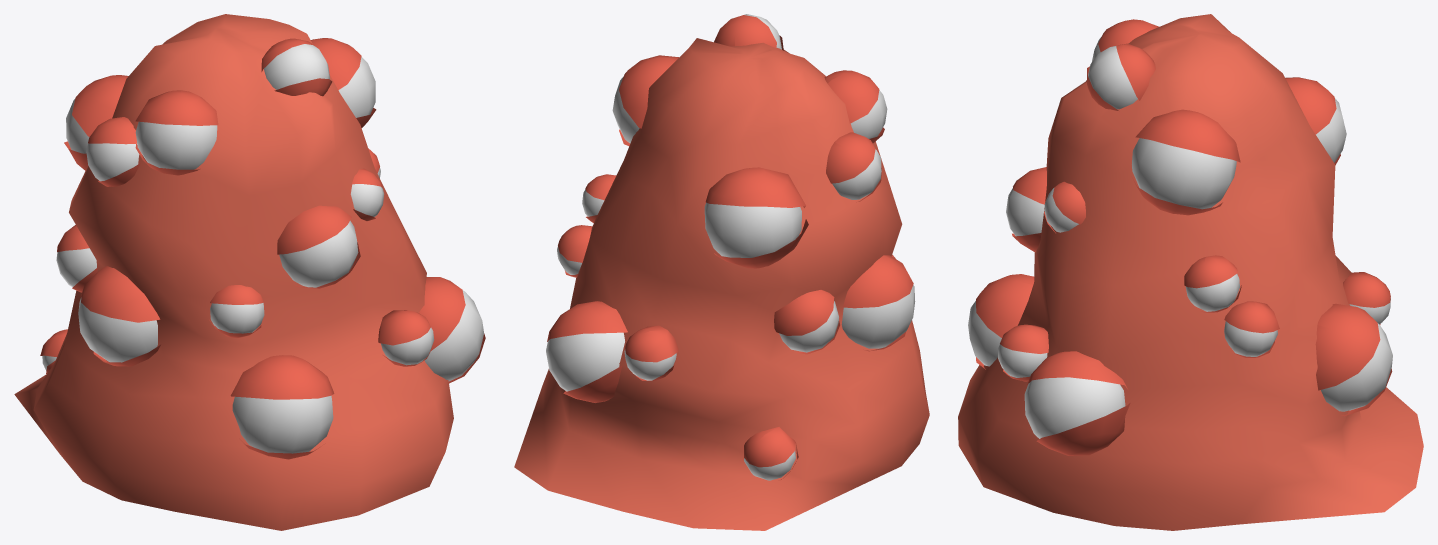
The model's file is Bishop-v2.fbx.
3 renders of one model, left to right at view 1: azimuth 30°, elevation 25°; view 2: azimuth 150°, elevation 25°; view 3: azimuth 270°, elevation 25°, orthographic. The views are drawn at different scales.
Parts seen in each view (by area): view 1: Cylinder, Sphere.002, Sphere.003, Sphere.006, Sphere.021, Sphere.020, Sphere.004, Sphere.012, Sphere.007, Sphere.005, Sphere.019, Sphere.013 (+14 smaller); view 2: Cylinder, Sphere.018, Sphere.019, Sphere.016, Sphere.017, Sphere.020, Sphere.021, Sphere.033, Sphere.015, Sphere.035, Sphere.007, Sphere.031 (+10 smaller); view 3: Cylinder, Sphere.014, Sphere.012, Sphere.017, Sphere.013, Sphere.015, Sphere.003, Sphere.016, Sphere.036, Sphere.019, Sphere.037, Sphere.027 (+13 smaller).
Part boxes in pixels (box(x1,y1,x2,y2)): Cylinder: box(14, 14, 453, 530); Sphere.002: box(232, 395, 333, 453); Sphere.003: box(230, 355, 334, 459); Sphere.006: box(135, 121, 217, 169); Sphere.021: box(81, 266, 160, 366); Sphere.020: box(78, 297, 157, 362); Sphere.004: box(279, 220, 358, 287); Sphere.012: box(424, 290, 483, 381); Sphere.007: box(135, 90, 218, 175); Sphere.005: box(277, 205, 360, 288); Sphere.019: box(64, 75, 128, 170); Sphere.013: box(419, 277, 485, 384); Cylinder: box(514, 38, 929, 530); Sphere.018: box(704, 202, 801, 257); Sphere.019: box(705, 167, 808, 268); Sphere.016: box(546, 332, 624, 391); Sphere.017: box(547, 301, 627, 402); Sphere.020: box(841, 285, 915, 348); Sphere.021: box(843, 255, 913, 351); Sphere.033: box(774, 290, 839, 354); Sphere.015: box(619, 55, 678, 145); Sphere.035: box(826, 132, 881, 202); Sphere.007: box(824, 70, 884, 143); Sphere.031: box(744, 427, 798, 479); Cylinder: box(958, 14, 1423, 530); Sphere.014: box(1132, 138, 1236, 209); Sphere.012: box(1024, 377, 1125, 438); Sphere.017: box(1315, 303, 1392, 416); Sphere.013: box(1027, 351, 1130, 455); Sphere.015: box(1131, 109, 1240, 215); Sphere.003: box(976, 274, 1034, 369); Sphere.016: box(1321, 323, 1392, 411); Sphere.036: box(1088, 46, 1137, 109); Sphere.019: box(1285, 77, 1340, 165); Sphere.037: box(1087, 43, 1155, 110); Sphere.027: box(1224, 301, 1279, 357).
Bounding box in the file's own units: 274 × 301 × 310.
